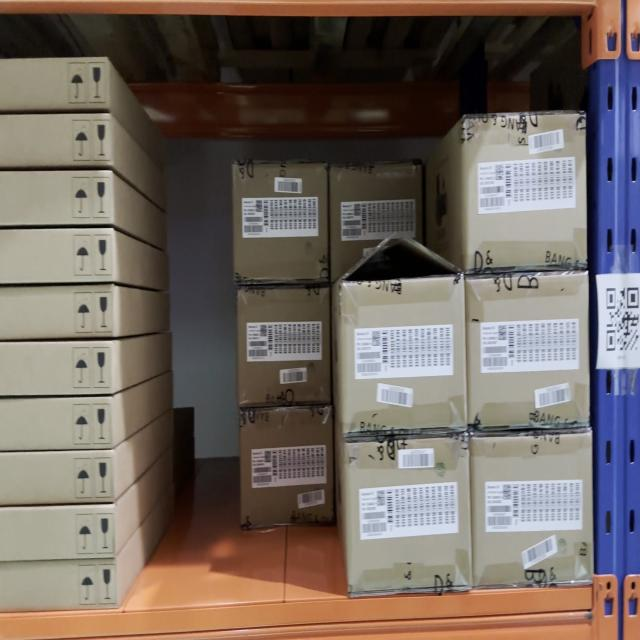box: (350, 435, 468, 594), (344, 277, 464, 433), (468, 273, 588, 424), (465, 121, 586, 264), (476, 435, 592, 581), (235, 165, 328, 281), (239, 290, 330, 405), (243, 408, 331, 523)
